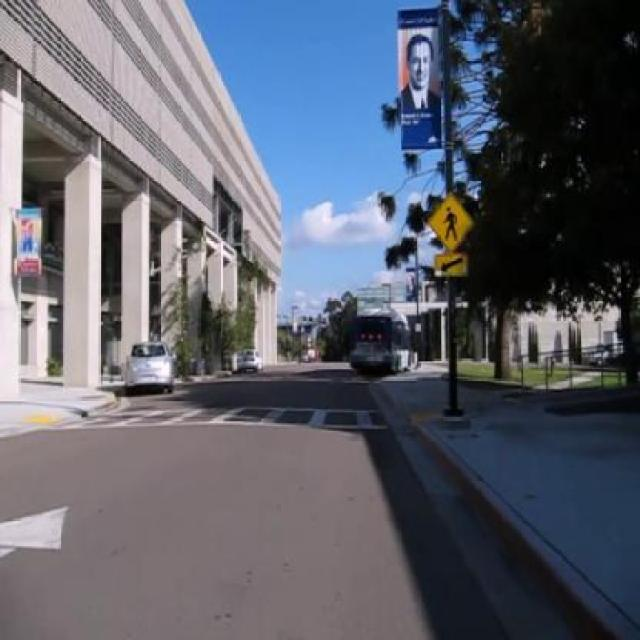pedestrianCrossing: (426, 189, 474, 255)
